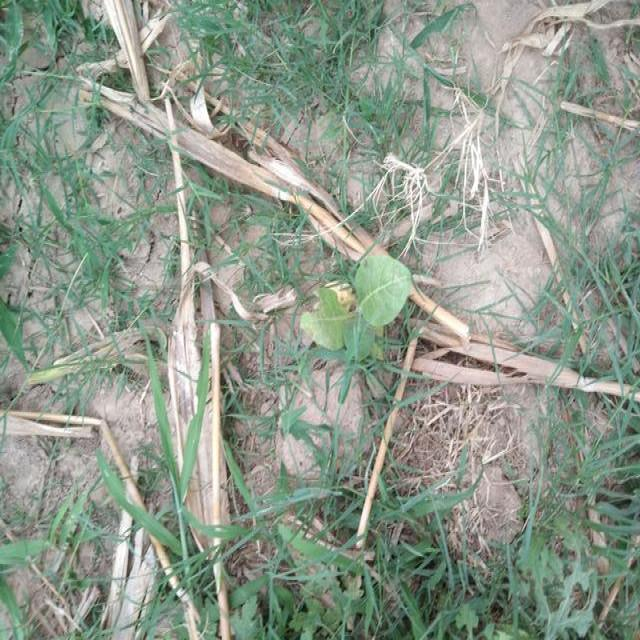crop: (309, 243, 425, 355)
